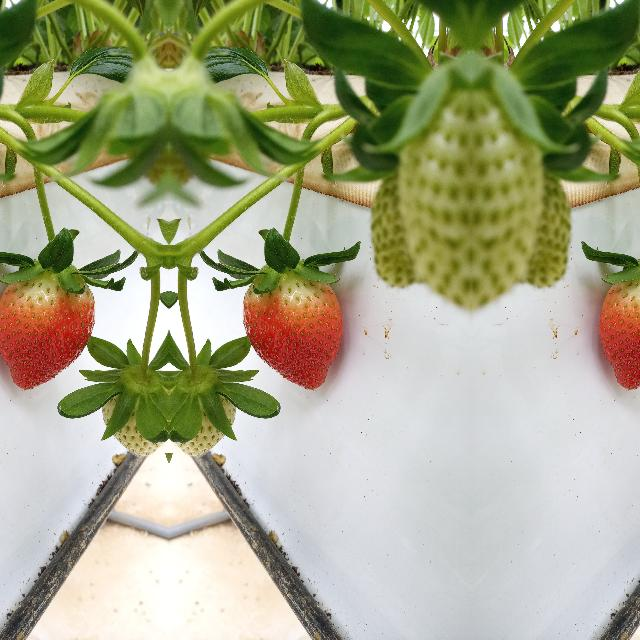Health_100: (242, 269, 342, 391), (0, 269, 94, 391), (598, 269, 640, 391)
Health_25: (168, 342, 238, 468), (98, 342, 168, 468)
